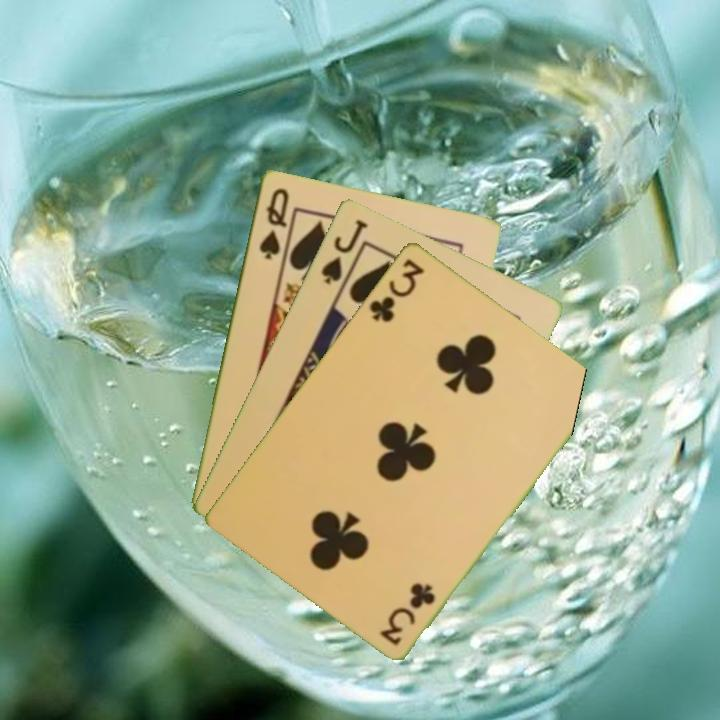3c: (365, 254, 427, 325), (377, 579, 438, 648)
Js: (317, 215, 371, 287)
Qs: (255, 184, 292, 262)
